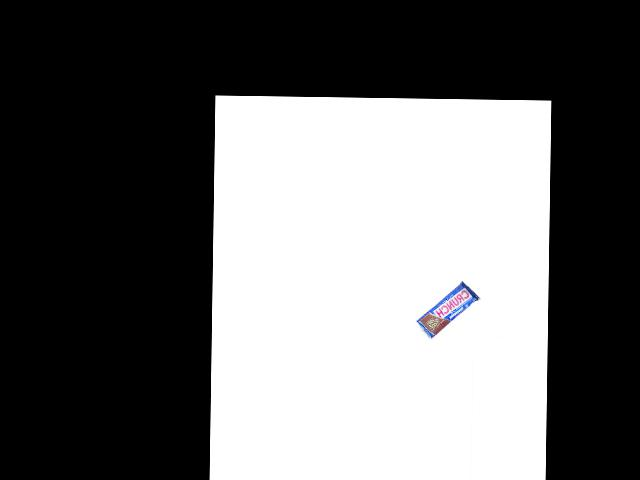chocolate: (414, 279, 481, 340)
